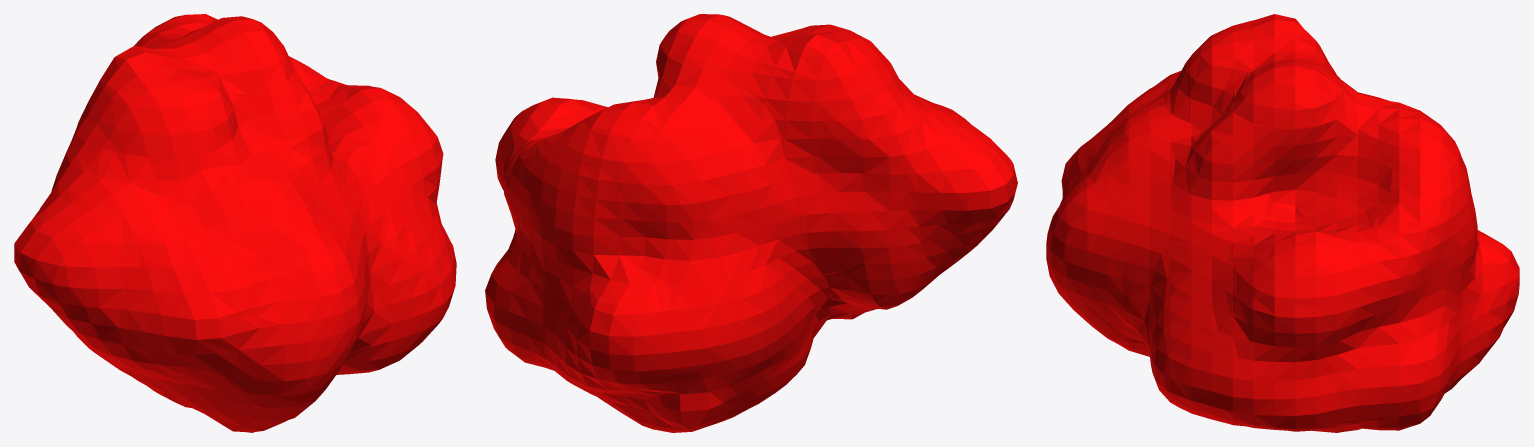
The model's file is uhpA_coarse.dae.
The picture shows the model from 3 angles, left to right: view 1: azimuth 30°, elevation 25°; view 2: azimuth 150°, elevation 25°; view 3: azimuth 270°, elevation 25°; orthographic projection. The views are drawn at different scales.
Visible parts, largest first — view 1: uhpA; view 2: uhpA; view 3: uhpA.
Boxes of the visible parts, bbox=[...] form: uhpA: bbox=[14, 14, 456, 432]; uhpA: bbox=[485, 14, 1017, 432]; uhpA: bbox=[1046, 14, 1519, 432].
Size of the model in its own units: 52.65 by 41.69 by 50.44.
